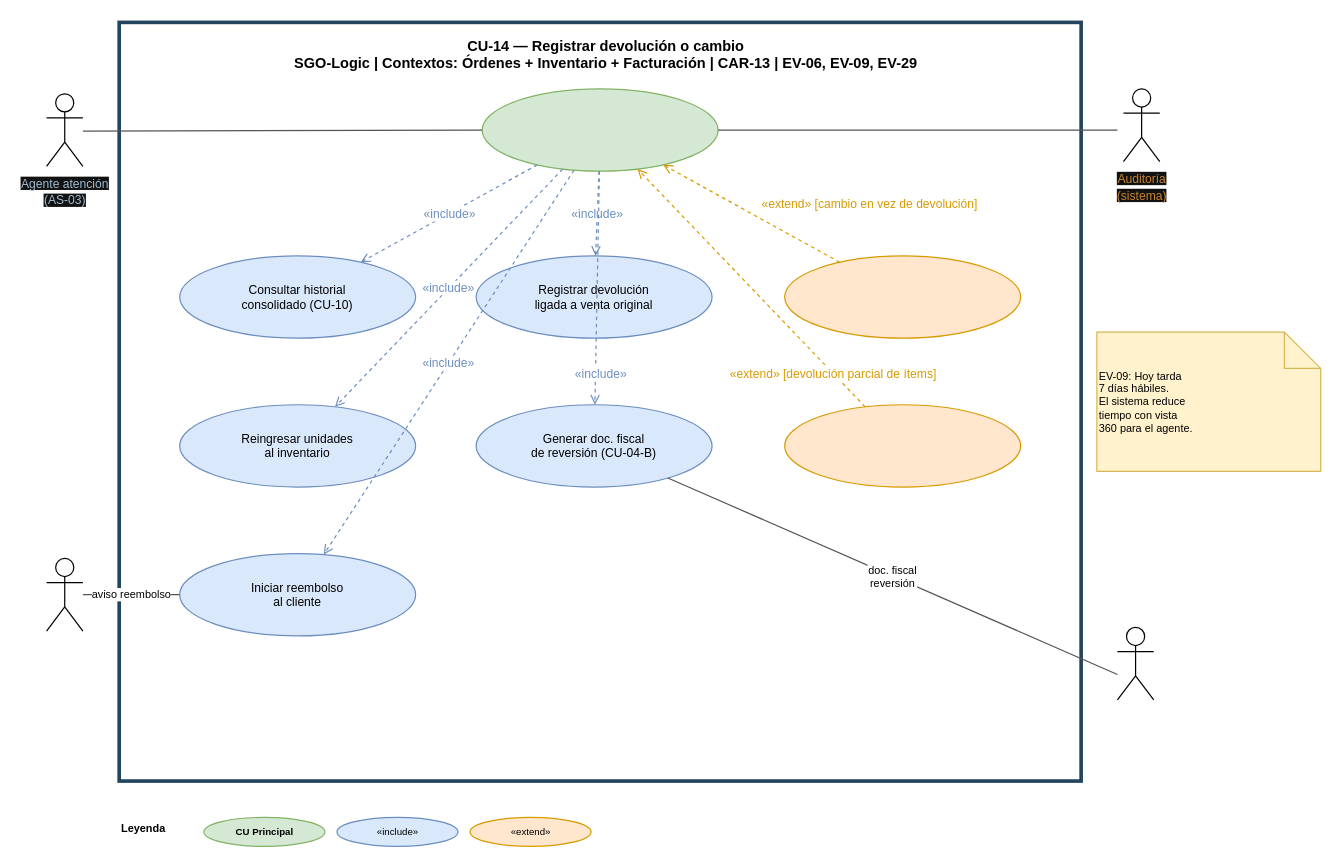
The diagram is 1342 pixels wide and 868 high, and some of its shapes have lost their labels. The centre of each missing label's shape, as x and y in pixels:
"Cambio por otro producto" goes at point (902, 296).
"Devolución parcial de ítems" goes at point (902, 445).
"Notificaciones (sistema)" goes at point (64, 594).
"Registrar devolución o cambio" goes at point (599, 129).
"SAT (AS-06)" goes at point (1135, 663).
